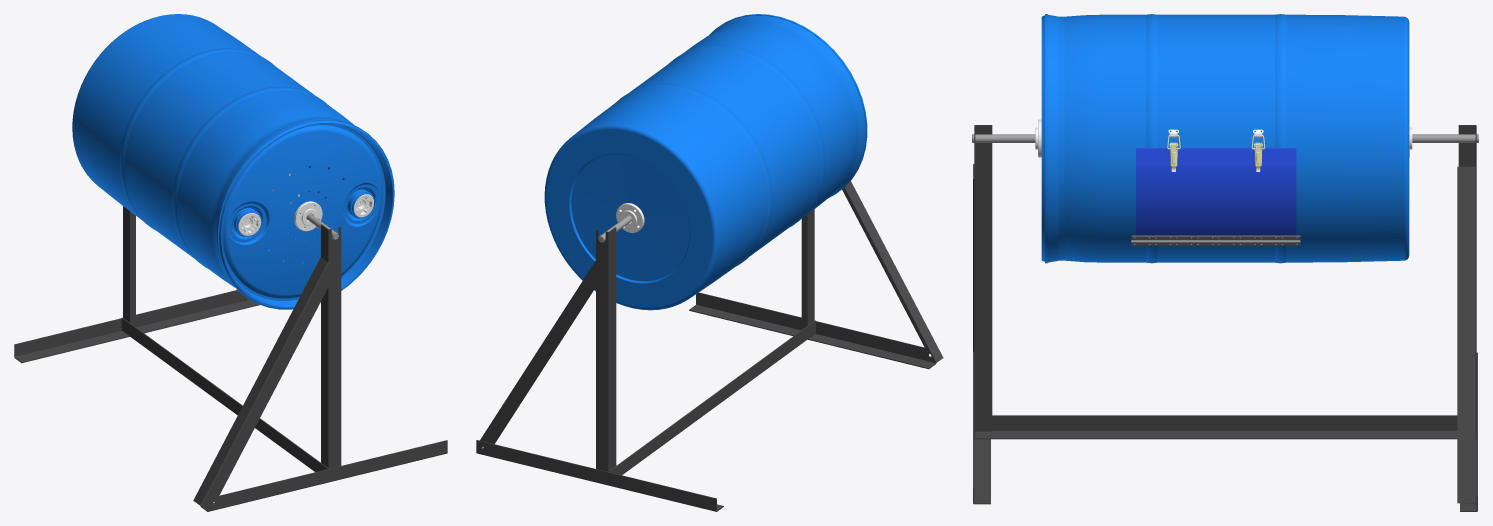
File: modelo.glb
3 views of the same model, side by side, from view 1: azimuth 30°, elevation 25°; view 2: azimuth 150°, elevation 25°; view 3: azimuth 270°, elevation 25° (orthographic). The views are drawn at different scales.
Visible parts, largest first — view 1: 55 Gal Closed Top Plastic Drum.STEP-1/55 Gal Closed Top Plas, Barra80cm-9, Barra80cm-4, Barra80cm-2, Barra80cm-1, Barra119cm-1, Barra80cm-3, Brida-1; view 2: 55 Gal Closed Top Plastic Drum.STEP-1/55 Gal Closed Top Plas, Barra80cm-3, Barra80cm-1, Barra80cm-4, Barra80cm-6, Barra119cm-1, Barra80cm-9, Barra80cm-2, Brida-2; view 3: 55 Gal Closed Top Plastic Drum.STEP-1/55 Gal Closed Top Plas, Tapa-1, Barra119cm-1, Barra80cm-6, Barra80cm-2, EnsamblajeCompostera, Barra80cm-1, Barra80cm-3, Eje-1.
Boxes of the visible parts, x1,y1,x2,y2 form: 55 Gal Closed Top Plastic Drum.STEP-1/55 Gal Closed Top Plas: (72,14,394,309); Barra80cm-9: (193,257,338,510); Barra80cm-4: (14,290,259,363); Barra80cm-2: (321,224,341,468); Barra80cm-1: (200,440,447,511); Barra119cm-1: (121,317,328,472); Barra80cm-3: (123,206,135,326); Brida-1: (294,201,322,231); 55 Gal Closed Top Plastic Drum.STEP-1/55 Gal Closed Top Plas: (544,14,867,310); Barra80cm-3: (596,227,616,471); Barra80cm-1: (689,292,936,369); Barra80cm-4: (476,440,723,511); Barra80cm-6: (480,261,595,449); Barra119cm-1: (609,320,815,475); Barra80cm-9: (842,181,943,362); Barra80cm-2: (801,209,814,329); Brida-2: (616,203,644,232); 55 Gal Closed Top Plastic Drum.STEP-1/55 Gal Closed Top Plas: (1041,14,1409,263); Tapa-1: (1136,135,1296,237); Barra119cm-1: (974,415,1476,439); Barra80cm-6: (1457,166,1475,504); Barra80cm-2: (974,125,992,438); EnsamblajeCompostera: (1131,235,1279,245); Barra80cm-1: (973,351,990,504); Barra80cm-3: (1458,125,1476,438); Eje-1: (972,134,1478,142).
Bounding box in the file's own units: 0.8712 × 1.08 × 1.2.
